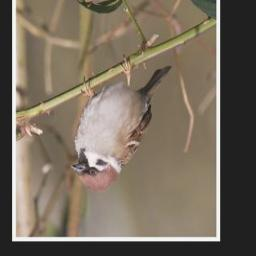Sparrow: (68, 54, 176, 193)
